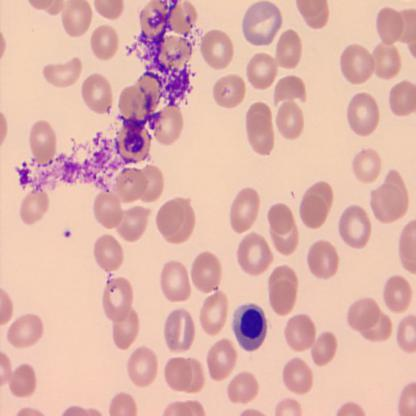NRC: (231, 301, 268, 352)
